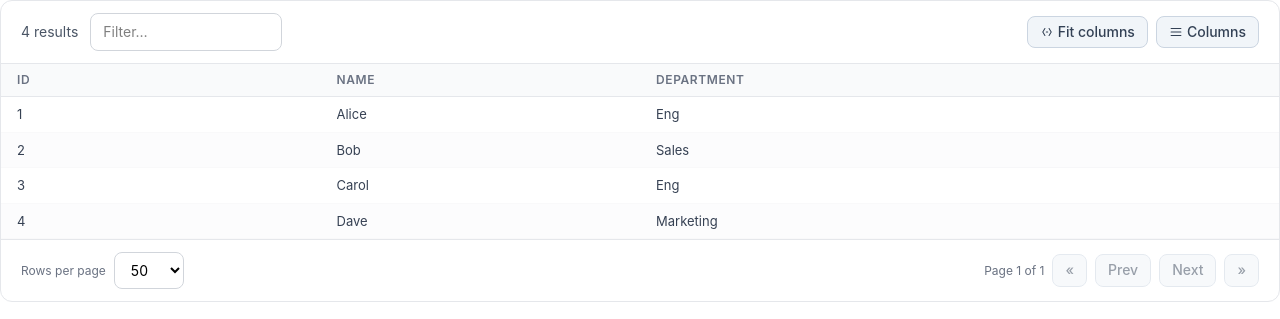
it: ResultsTable.vue › alwaysVisible columns cannot be hidden
Click the button "Columns": (1207, 32) [1156,16,1259,48]
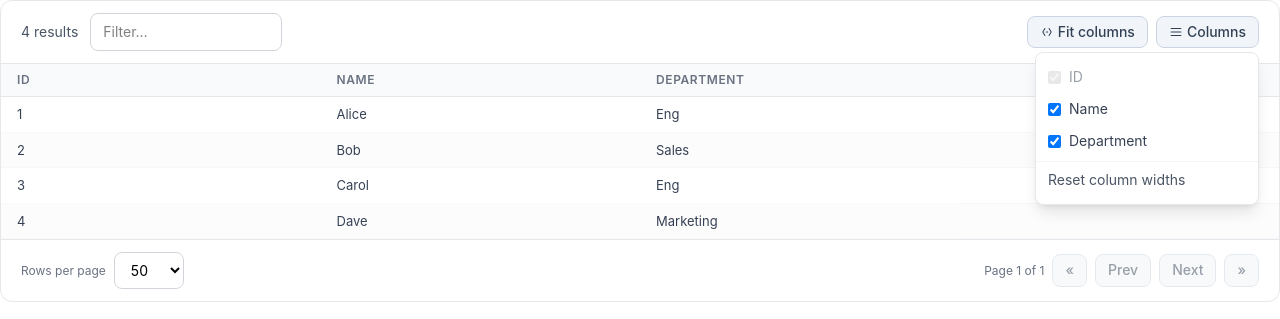
expect the element with class "cursor-not-allowed" is shown: met, box [1048,68,1083,85]
